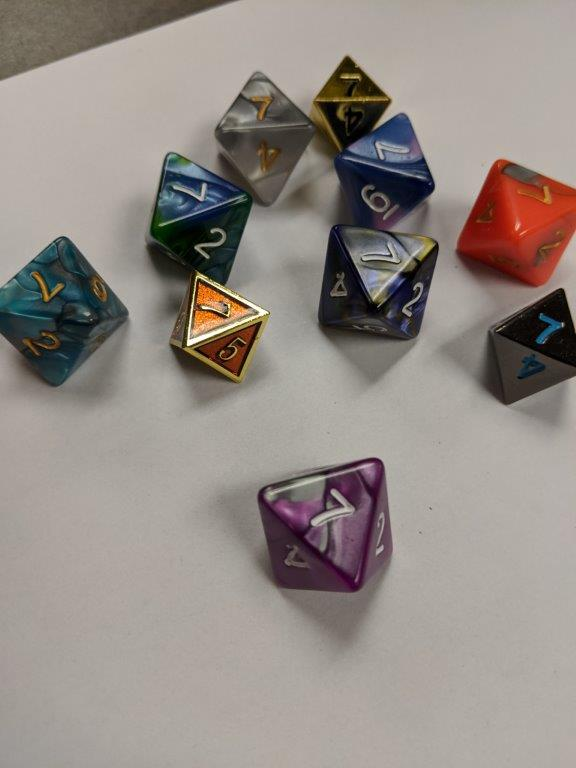d8-7: (254, 450, 399, 594), (1, 235, 131, 391), (137, 152, 255, 290), (314, 222, 440, 349), (456, 155, 576, 285), (214, 67, 314, 210), (168, 267, 271, 383), (336, 113, 438, 230), (484, 290, 576, 407), (314, 53, 394, 152)
